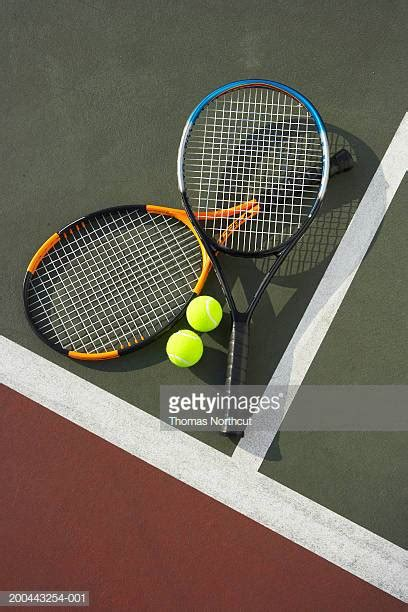tennis_ball: (165, 329, 204, 368), (186, 295, 223, 332)
